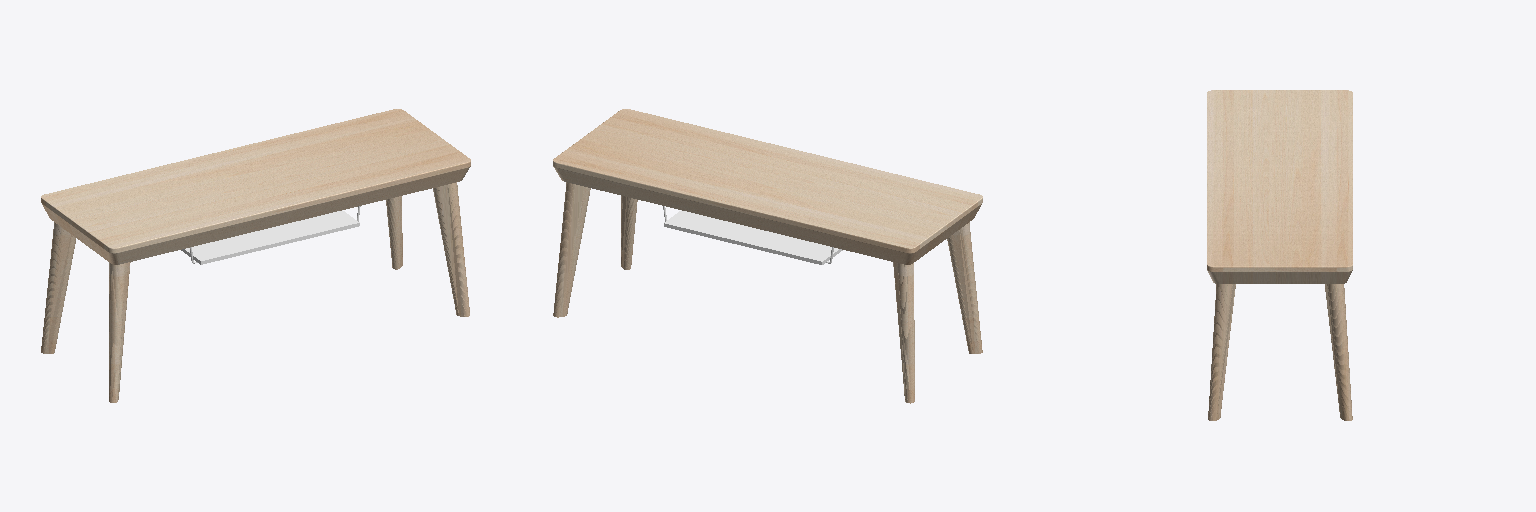
3 views of the same model, side by side, from view 1: azimuth 30°, elevation 25°; view 2: azimuth 150°, elevation 25°; view 3: azimuth 270°, elevation 25° (orthographic).
Visible parts, largest first — view 1: Box001, Box002, Line013, Line011, Line012, Line009; view 2: Box001, Box002, Line009, Line012, Line011, Line013; view 3: Box001, Line009, Line013.
Boxes of the visible parts, box(x1,y1,x2,y2) form: Box001: box(41, 109, 470, 264); Box002: box(181, 210, 359, 264); Line013: box(433, 182, 469, 316); Line011: box(41, 222, 75, 353); Line012: box(109, 262, 130, 402); Line009: box(386, 196, 402, 269); Box001: box(553, 109, 982, 264); Box002: box(664, 210, 842, 264); Line009: box(553, 182, 590, 317); Line012: box(947, 222, 982, 353); Line011: box(893, 262, 914, 403); Line013: box(621, 196, 637, 269); Box001: box(1207, 90, 1352, 283); Line009: box(1325, 284, 1352, 420); Line013: box(1208, 284, 1235, 420).
Size of the model in its own units: 1140 by 467 by 400.
2 materials, 1 textured.